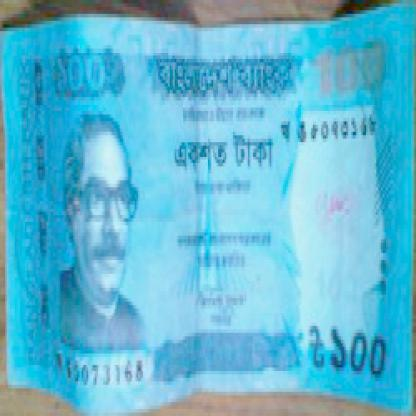one hundred taka: (326, 319, 390, 385), (50, 49, 116, 104)
